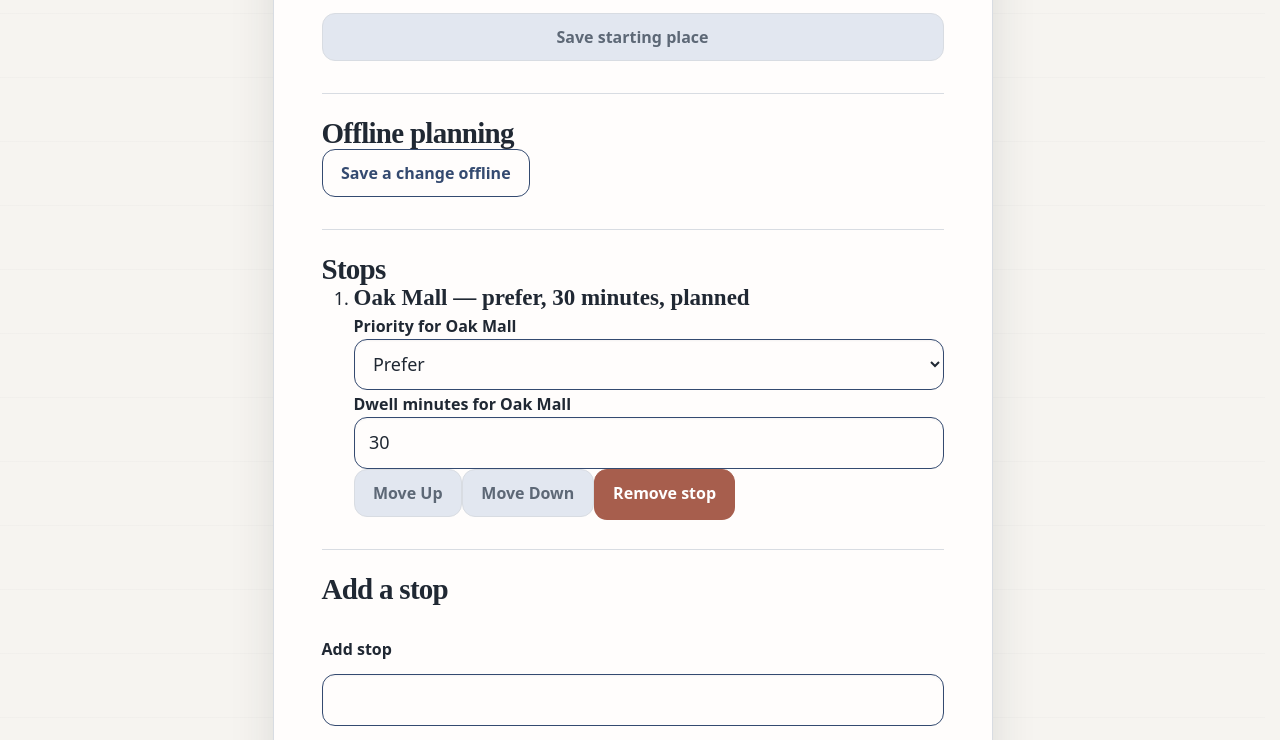
it: Plan mutation recovery › keeps the loaded plan and retries a failed priority change
(page scrolled)
Select "Must" in the dropdown labelled "Priority for Oak Mall" at coordinates (648, 364), box [354, 339, 944, 390]
(page scrolled)
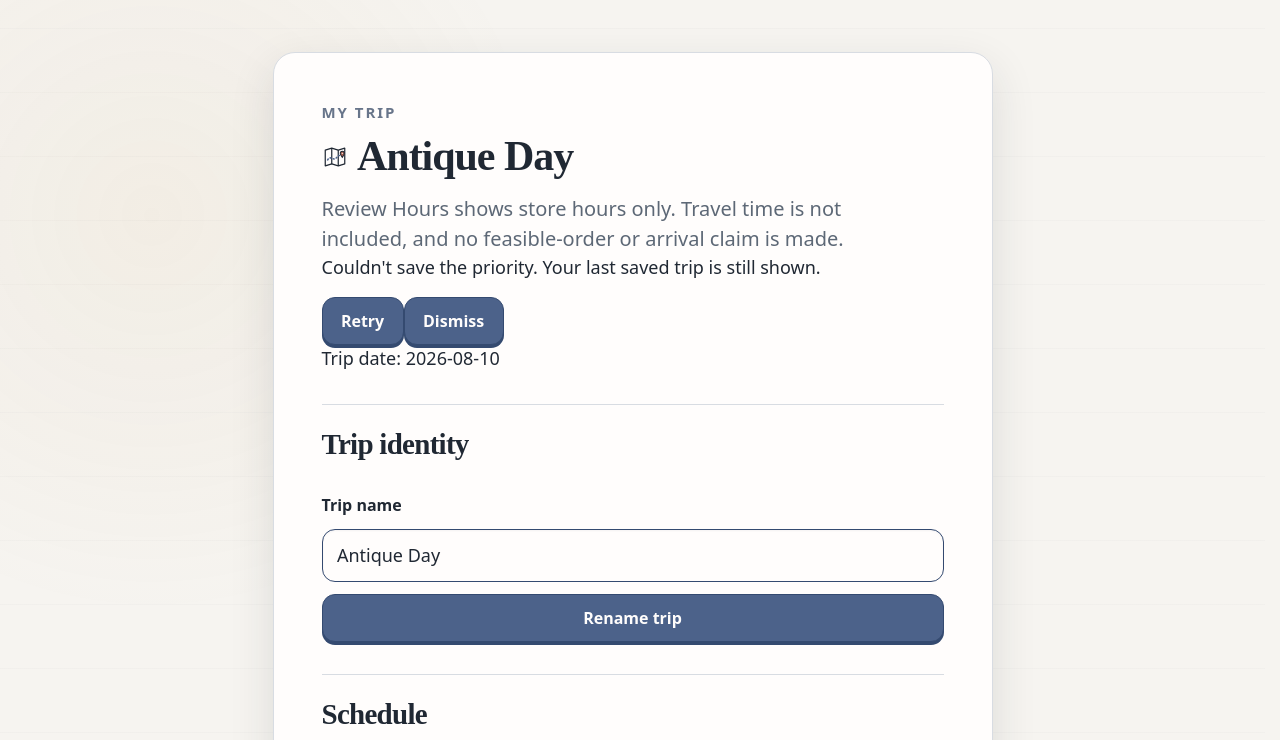
Expected: the heading "Antique Day" is shown, [322, 133, 573, 179]
Expected: the message shows "Couldn't save the priority", [322, 255, 821, 345]
Click the button "Retry" at coordinates (363, 321), box [322, 297, 404, 345]
(page scrolled)
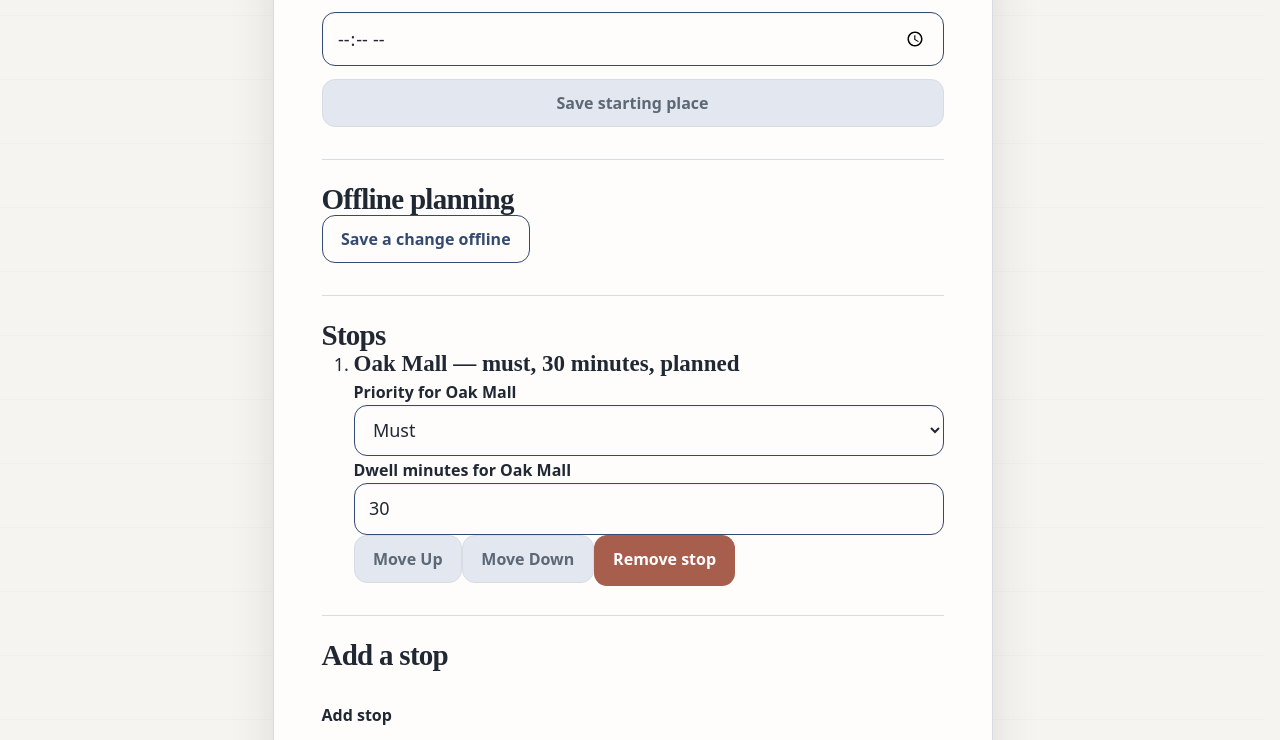
Expected: the heading "Oak Mall — must, 30 minutes, planned" is shown, [354, 352, 740, 376]
